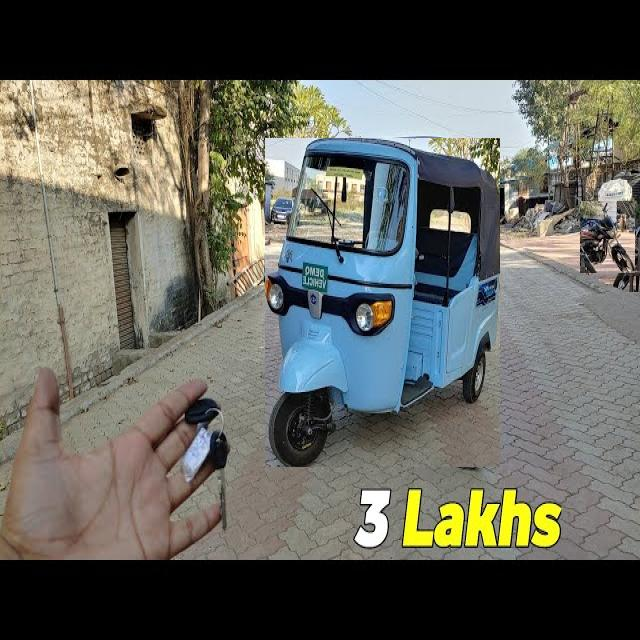autorickshaw: (265, 138, 500, 467)
motorcycle: (580, 202, 635, 273)
